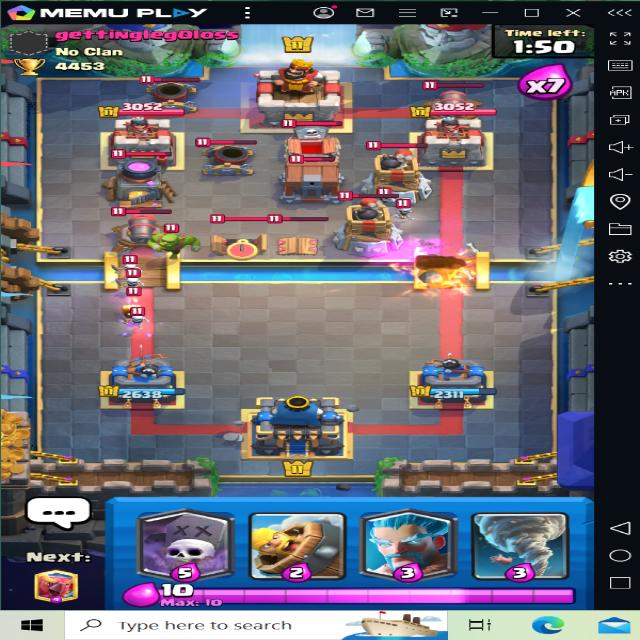bomb-tower: (354, 137, 434, 204), (335, 187, 412, 255)
brawler: (148, 223, 199, 261)
cannon: (418, 78, 490, 122), (114, 206, 176, 250)
fire-spirit: (118, 296, 148, 317)
furnace: (107, 149, 182, 207)
goblin-cage: (280, 150, 350, 198)
mortar: (140, 65, 207, 111), (194, 138, 257, 168)
skeleton: (128, 305, 157, 328), (115, 256, 146, 277), (118, 273, 151, 289), (399, 202, 419, 222)
tesla: (210, 210, 270, 256)
tesla-closed: (264, 212, 330, 256)
tombstone: (278, 116, 352, 159)
